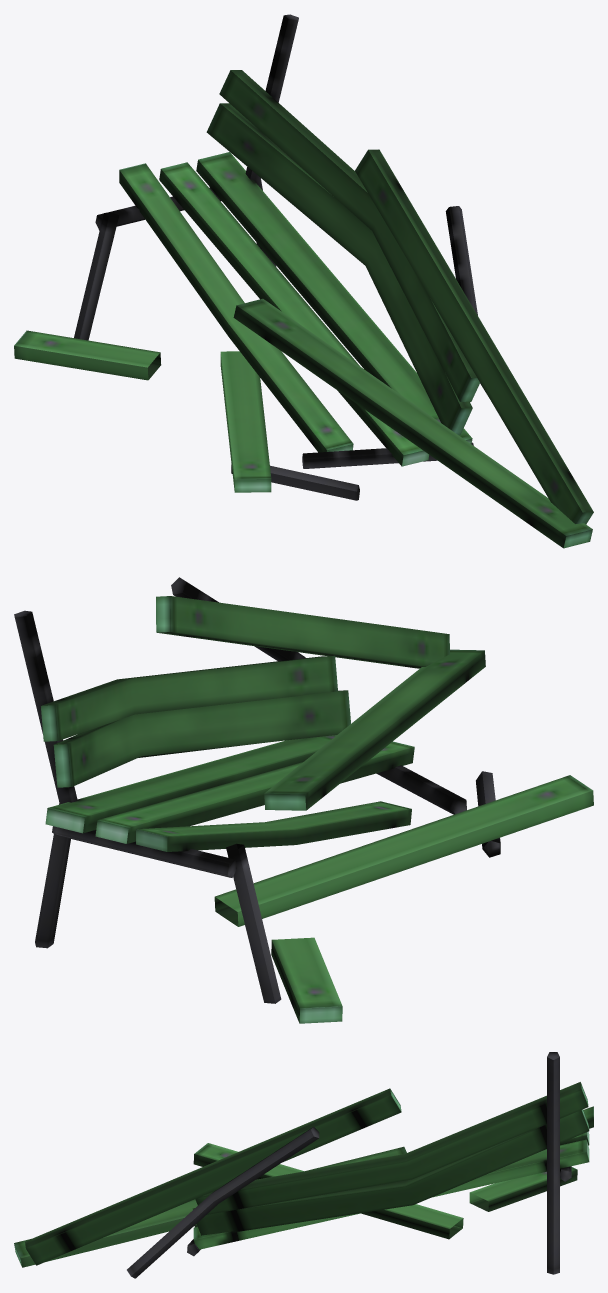
File: WachtBankje_Step3.FBX
The picture shows the model from 3 angles, top to bottom: view 1: azimuth 30°, elevation 25°; view 2: azimuth 150°, elevation 25°; view 3: azimuth 270°, elevation 25°; orthographic projection. The views are drawn at different scales.
Parts seen in each view (by area): view 1: Bankje; view 2: Bankje; view 3: Bankje.
Boxes of the visible parts, <box> form: Bankje: <box>14,14,593,548</box>; Bankje: <box>14,577,593,1023</box>; Bankje: <box>14,1052,593,1278</box>.
Bounding box in the file's own units: 120 × 108 × 251.
1 material, 1 textured.
